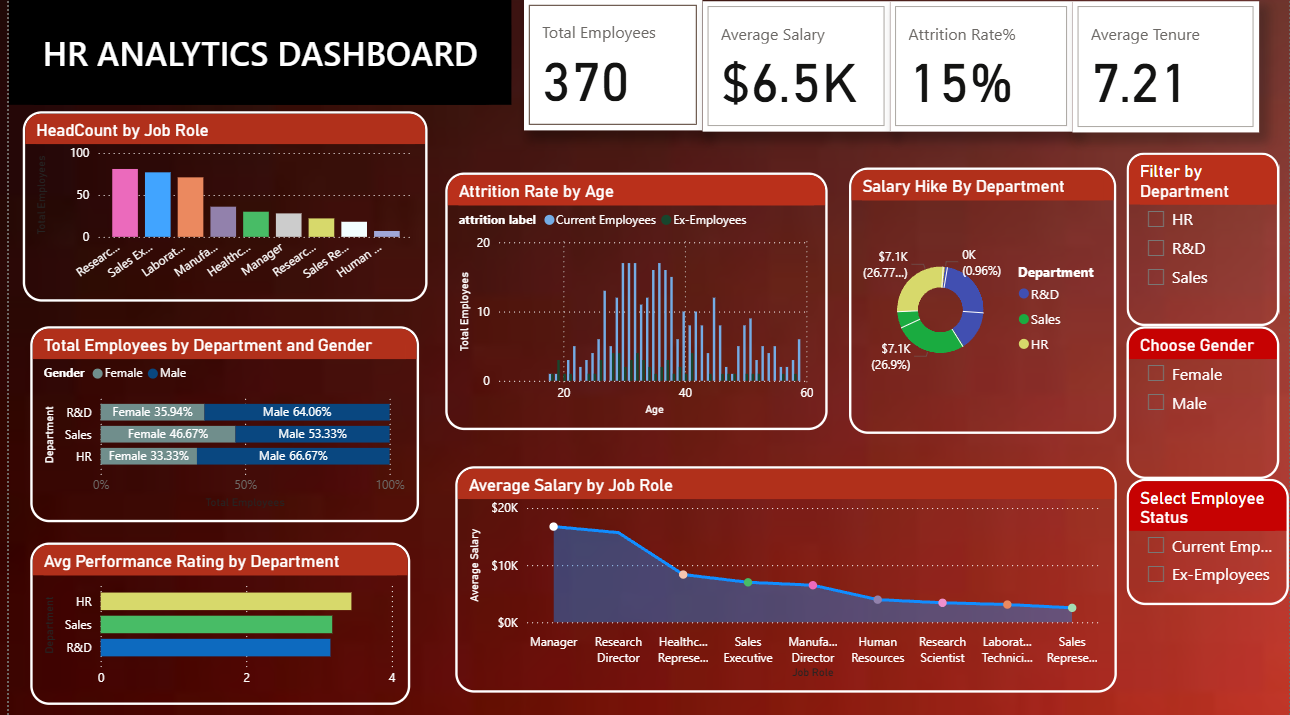

This screenshot's page, from the dashboard's own definition file:
{"tool":"powerbi","page":{"name":"Executive Summary","canvas":[1280,720],"ordinal":3},"visuals":[{"type":"cardVisual","fields":{"Data":["HR Data.Total Employees"]},"box":[515,0,178.8,130],"z":0},{"type":"cardVisual","fields":{"Data":["HR Data.Average Salary"]},"box":[693.8,1.2,187.5,130],"z":1000},{"type":"cardVisual","fields":{"Data":["HR Data.Attrition Rate"]},"box":[881.2,1.2,182.5,130],"z":2000},{"type":"areaChart","title":"Average Salary  by Job Role","fields":{"Category":["HR Data.Job Role"],"Y":["HR Data.Average Salary"]},"box":[446.2,466.2,661.2,226.2],"z":3000},{"type":"lineClusteredColumnComboChart","title":"Attrition Rate by Age ","fields":{"Category":["HR Data.Age"],"Y":["HR Data.Total Employees"],"Series":["HR Data.attrition label"]},"box":[436.2,172.5,382.5,257.5],"z":4000},{"type":"slicer","title":"Filter by Department","fields":{"Values":["HR Data.Department"]},"box":[1117.5,152.5,152.5,173.8],"z":6000},{"type":"slicer","title":"Choose Gender","fields":{"Values":["HR Data.Gender"]},"box":[1117.5,326.2,152.5,152.5],"z":7000},{"type":"shape","box":[0,0,502.5,105],"z":8000},{"type":"slicer","title":"Select Employee Status","fields":{"Values":["HR Data.attrition label"]},"box":[1117.5,478.8,162.5,126.2],"z":9000},{"type":"cardVisual","title":"Average Tenure","fields":{"Data":["HR Data.Average Tenure"]},"box":[1063.8,1.2,186.2,131.2],"z":10000},{"type":"clusteredColumnChart","title":"HeadCount by Job Role","fields":{"Category":["HR Data.Job Role"],"Y":["HR Data.Total Employees"]},"box":[13.8,111.2,405,190],"z":11000},{"type":"hundredPercentStackedBarChart","fields":{"Category":["HR Data.Department"],"Series":["HR Data.Gender"],"Y":["HR Data.Total Employees"]},"box":[21.2,326.2,388.8,196.2],"z":12000},{"type":"donutChart","title":"Salary Hike By Department","fields":{"Y":["HR Data.Total Employees","HR Data.Average Salary","Sum(HR Data.Percent Salary Hike)"],"Category":["HR Data.Department"]},"box":[840,167.5,267.5,266.2],"z":12001},{"type":"barChart","fields":{"Category":["HR Data.Department"],"Y":["HR Data.Avg Performance Rating"]},"box":[21.2,542.5,380,162.5],"z":12002}]}

Visuals, with their boxes in screenshot pixels (x1, y1, x2, y2), scaled from the page's 1280x720 canvas onto the 1290x715 screenshot:
cardVisual - HR Data.Total Employees: bbox=(519, 0, 699, 129)
cardVisual - HR Data.Average Salary: bbox=(699, 1, 888, 130)
cardVisual - HR Data.Attrition Rate: bbox=(888, 1, 1072, 130)
"Average Salary  by Job Role" areaChart: bbox=(450, 463, 1116, 688)
"Attrition Rate by Age " lineClusteredColumnComboChart: bbox=(440, 171, 825, 427)
"Filter by Department" slicer: bbox=(1126, 151, 1280, 324)
"Choose Gender" slicer: bbox=(1126, 324, 1280, 475)
shape: bbox=(0, 0, 506, 104)
"Select Employee Status" slicer: bbox=(1126, 475, 1289, 601)
"Average Tenure" cardVisual: bbox=(1072, 1, 1260, 131)
"HeadCount by Job Role" clusteredColumnChart: bbox=(14, 110, 422, 299)
hundredPercentStackedBarChart - HR Data.Department x HR Data.Gender: bbox=(21, 324, 413, 519)
"Salary Hike By Department" donutChart: bbox=(847, 166, 1116, 431)
barChart - HR Data.Department x HR Data.Avg Performance Rating: bbox=(21, 539, 404, 700)
